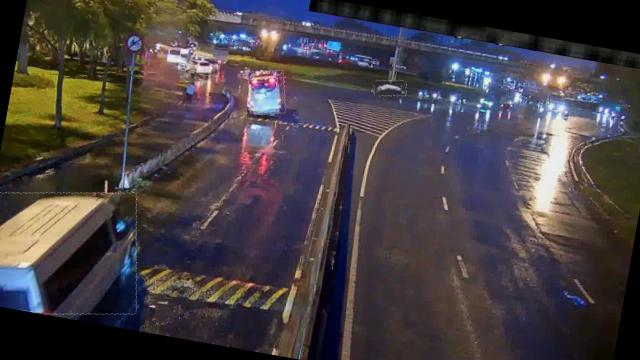Bus: (0, 174, 151, 328), (243, 67, 290, 118)
Car: (372, 76, 408, 100), (188, 55, 222, 78)
